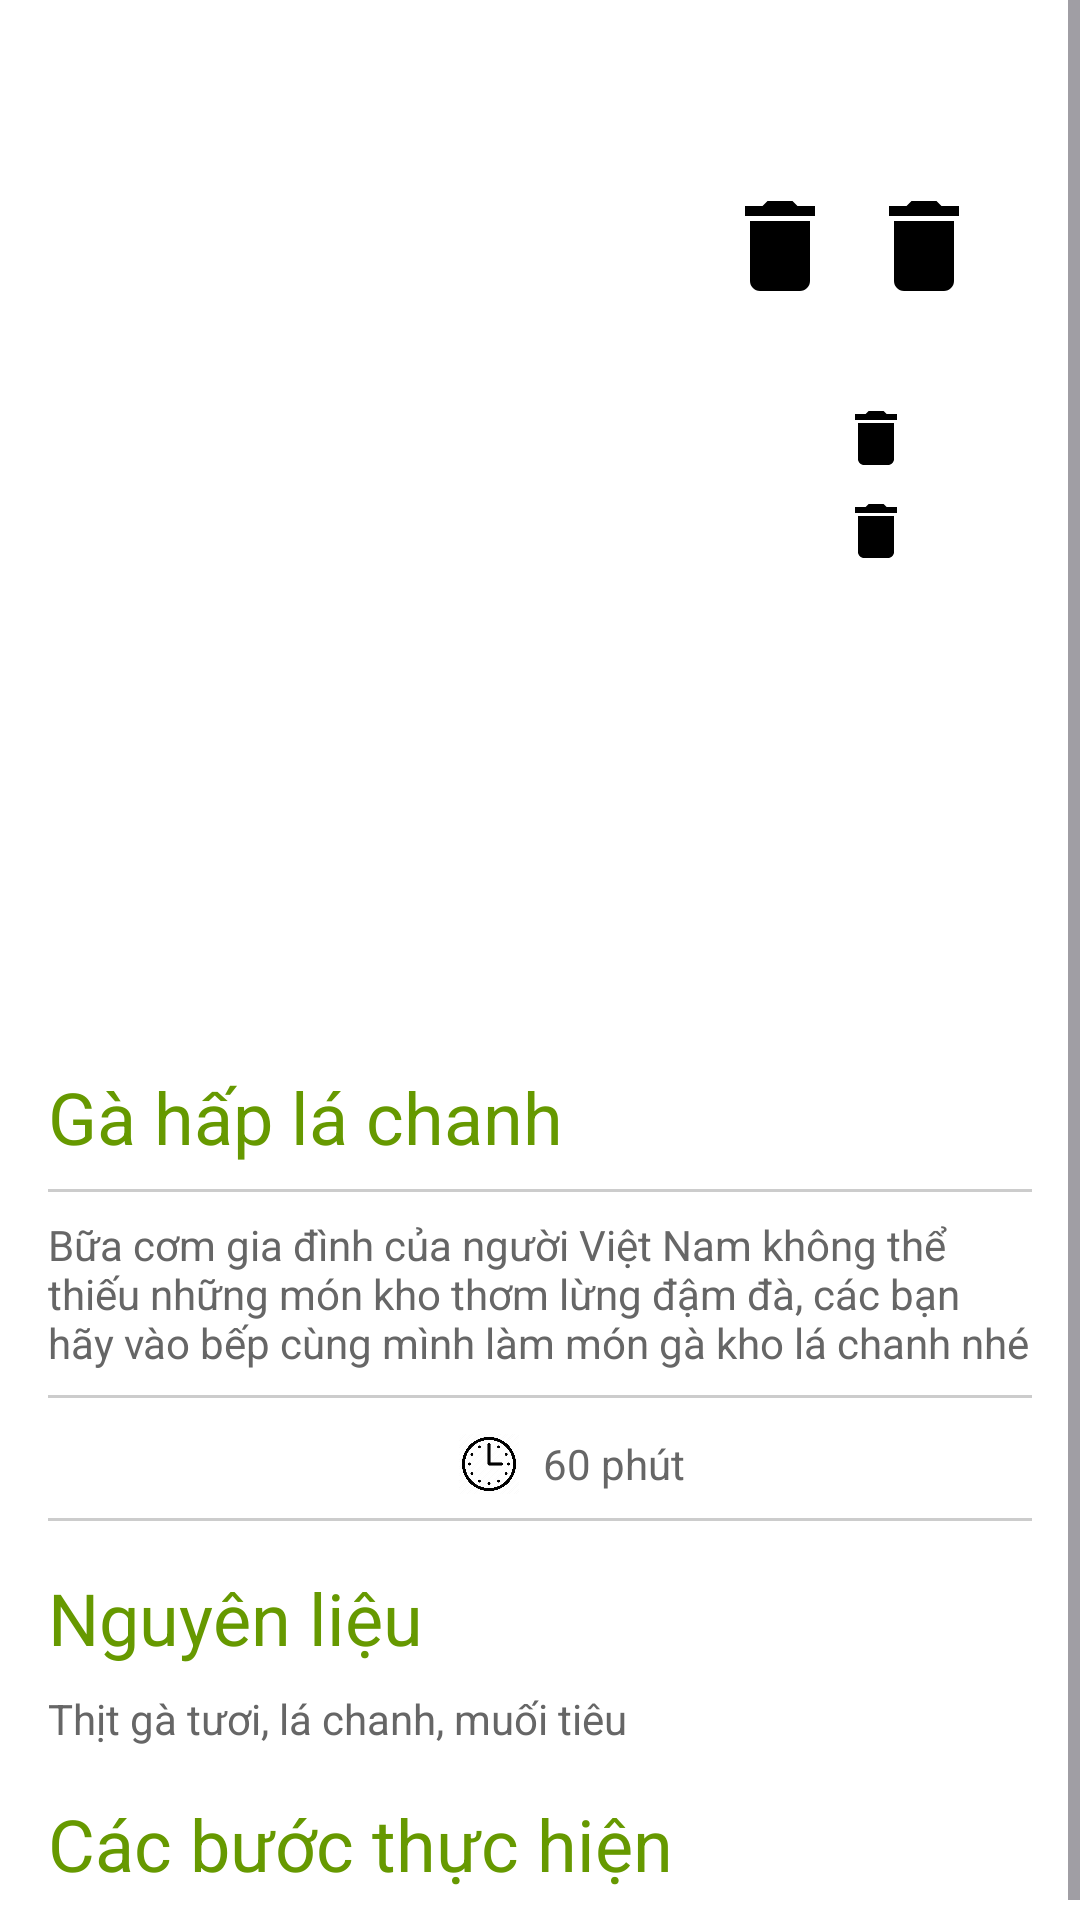

Point at icon controls on the screen. Image size 1080×1920, points as point (x, y).
clock: point (489, 1464)
